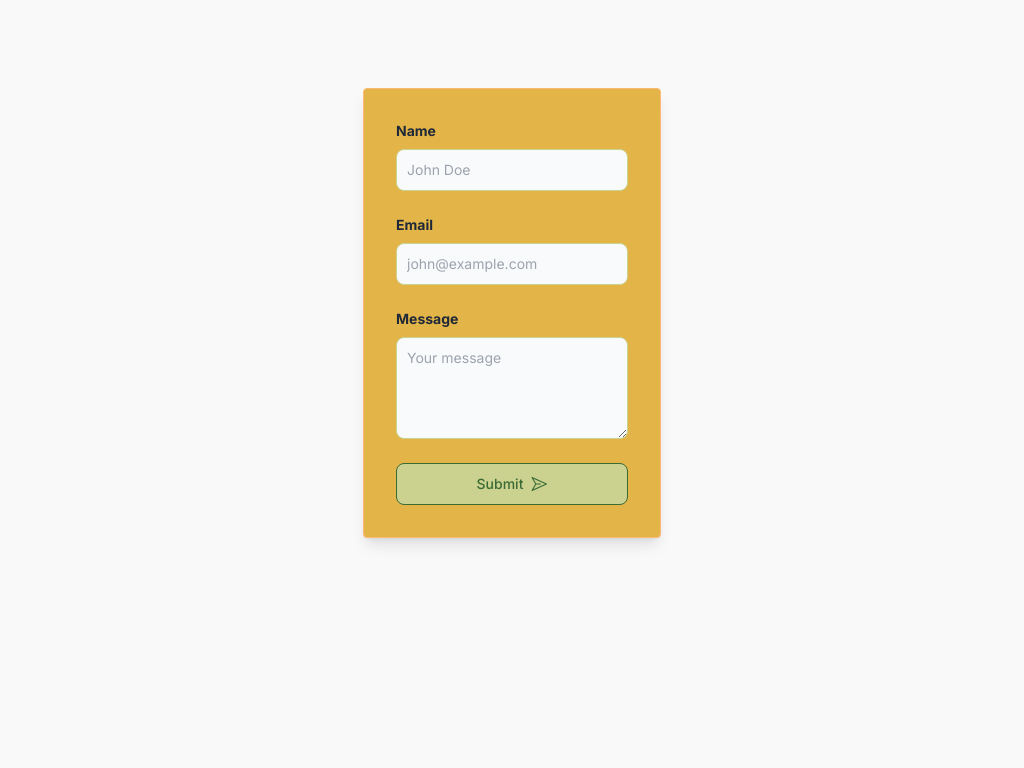
Test: Page › displays a success message after submitting the form
Type "Griffin Clark" into the field with placeholder "John Doe".
click(512, 170); type("Griffin Clark")  # box left=396, top=149, right=628, bottom=191
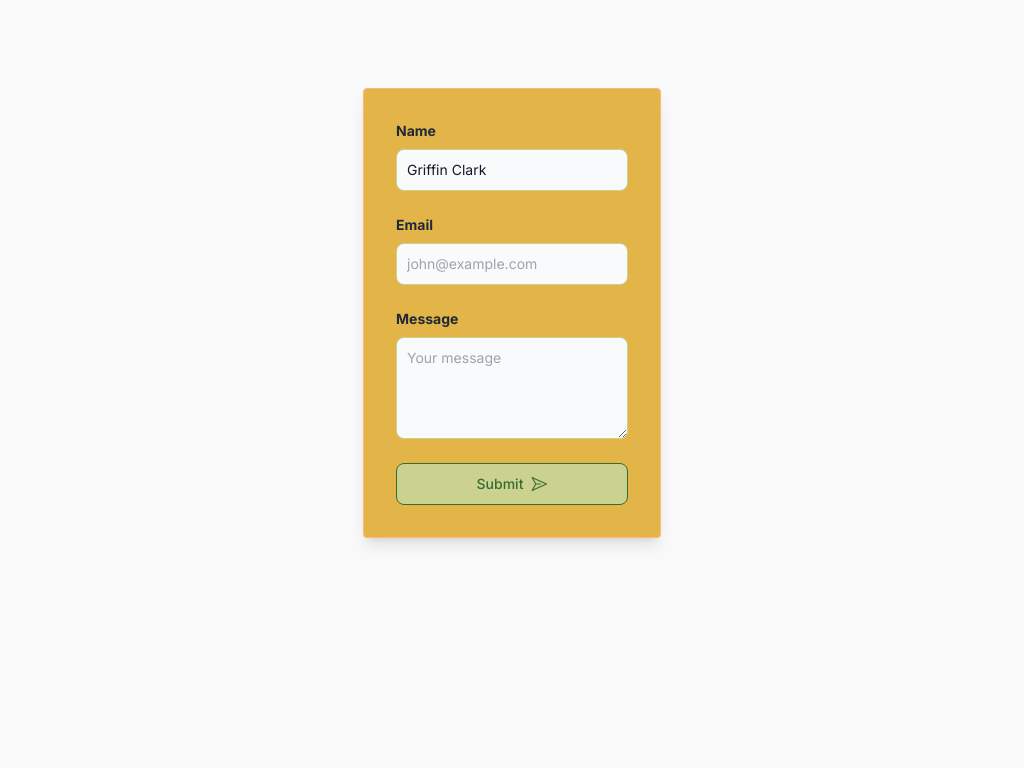
Type "griffin@example.com" into the field with placeholder "john@example.com".
click(512, 264); type("griffin@example.com")  # box left=396, top=243, right=628, bottom=285
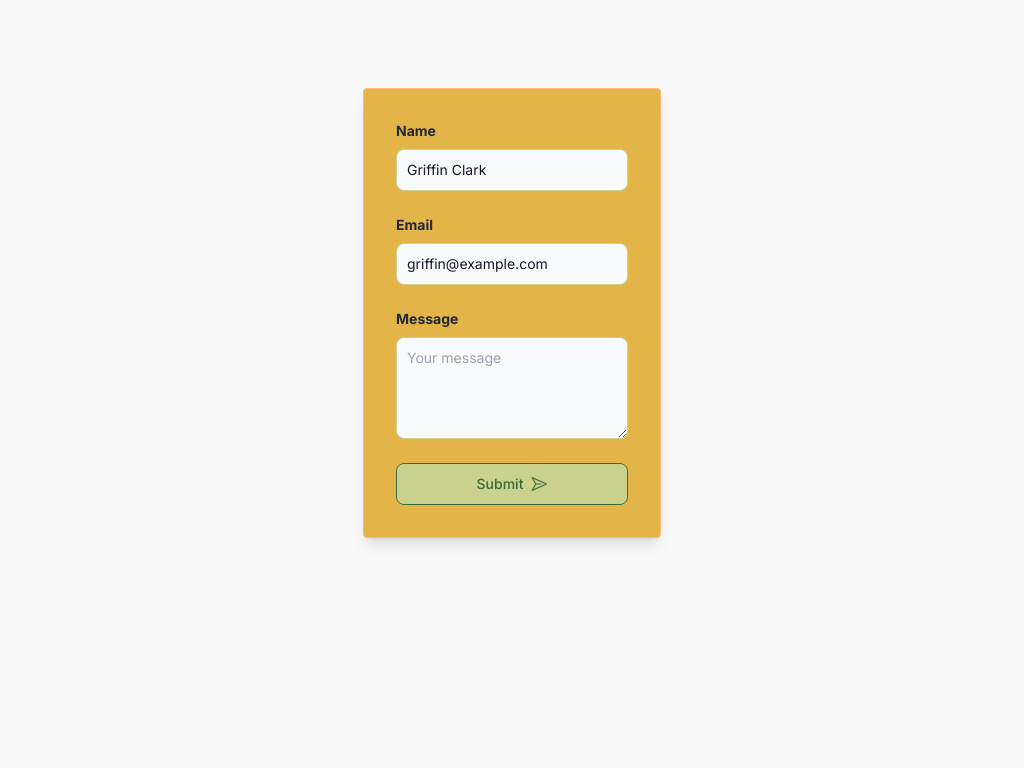
Type "Hello World" into the text box with placeholder "Your message".
click(512, 388); type("Hello World")  # box left=396, top=337, right=628, bottom=439
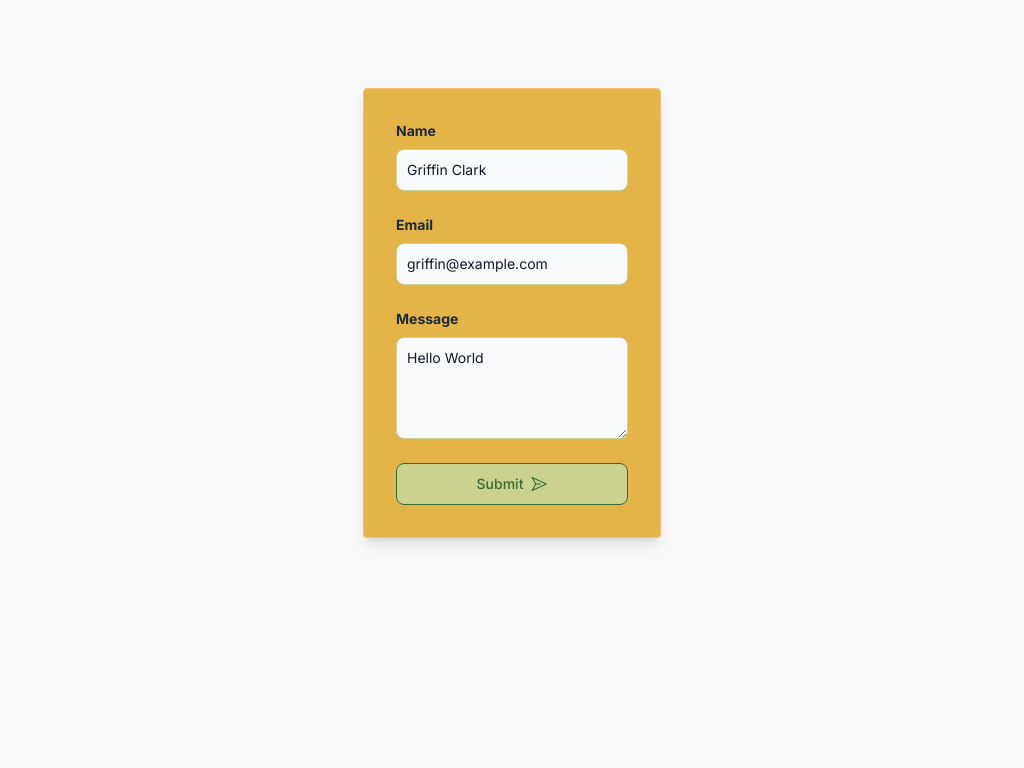
Click the button "Submit".
click(512, 484)  # box left=396, top=463, right=628, bottom=505
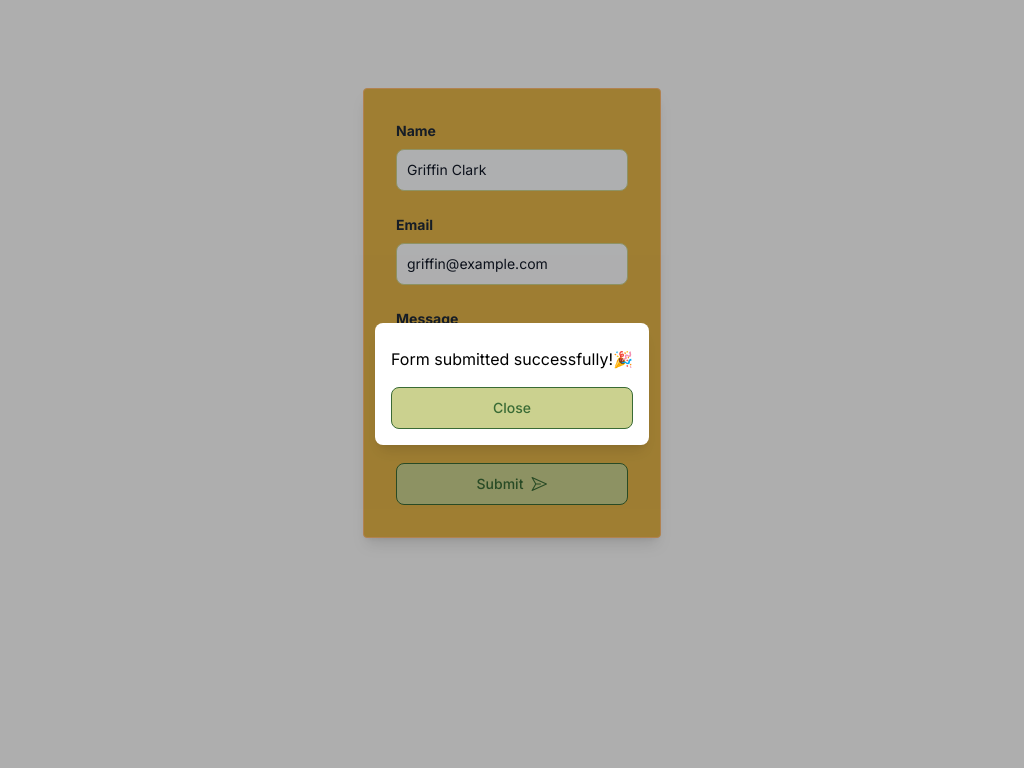
Check: the text "Form submitted successfully!🎉" is shown, box left=391, top=349, right=633, bottom=369
